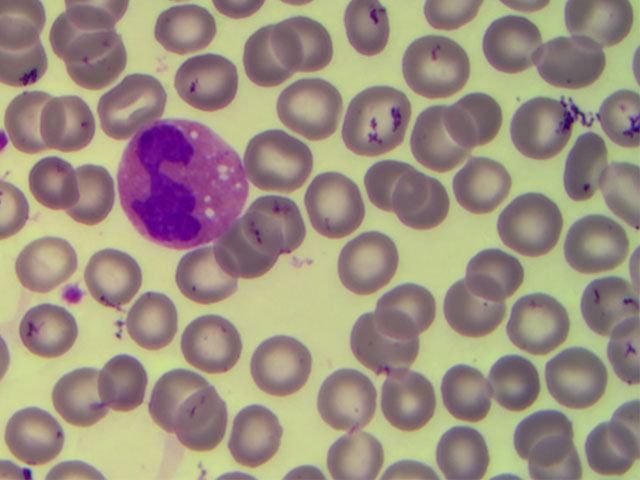Platelets: (58, 281, 82, 309)
RBC: (314, 417, 377, 480), (424, 417, 487, 480), (573, 417, 636, 480), (46, 4, 109, 66), (74, 34, 137, 96), (93, 54, 156, 116), (46, 87, 109, 149), (9, 101, 72, 163), (21, 152, 84, 214), (48, 154, 111, 216), (12, 231, 75, 293), (82, 246, 145, 308), (132, 293, 195, 355), (98, 337, 161, 399), (49, 365, 112, 427), (12, 301, 75, 363), (2, 404, 65, 466), (144, 366, 207, 428), (168, 390, 231, 452), (168, 315, 231, 377), (174, 246, 237, 308), (218, 223, 281, 285), (240, 193, 303, 255), (245, 125, 308, 187), (281, 78, 344, 140), (238, 26, 301, 88), (269, 12, 332, 74), (190, 45, 253, 107), (295, 171, 358, 233), (335, 231, 398, 293), (361, 152, 424, 214), (403, 176, 466, 238), (344, 87, 407, 149), (399, 28, 462, 90), (480, 10, 543, 72), (535, 30, 598, 92), (569, 1, 632, 63), (558, 137, 621, 199), (517, 98, 580, 160), (450, 84, 513, 146), (410, 106, 473, 168), (451, 158, 514, 220), (491, 195, 554, 257), (560, 210, 623, 272), (463, 241, 526, 303), (442, 284, 505, 346), (375, 273, 438, 335), (356, 316, 419, 378), (380, 371, 443, 433), (318, 368, 381, 430), (241, 331, 304, 393), (236, 408, 299, 470), (427, 352, 490, 414), (480, 350, 543, 412), (518, 392, 581, 454), (541, 346, 604, 408), (509, 294, 572, 356), (577, 279, 640, 341), (163, 1, 226, 62), (340, 1, 403, 62)
WBC: (121, 119, 242, 251)
